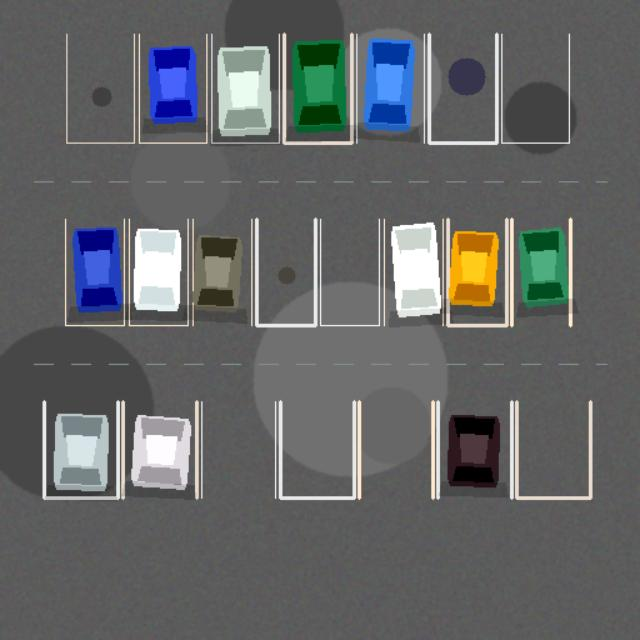space-empty: (66, 34, 134, 142), (501, 34, 569, 142), (429, 34, 496, 142), (201, 401, 275, 497), (280, 401, 354, 497), (516, 401, 590, 497), (359, 401, 432, 497), (256, 219, 315, 325), (320, 219, 379, 325)
space-occupied: (211, 34, 279, 142), (356, 34, 424, 142), (139, 34, 206, 142), (284, 34, 351, 142), (44, 401, 118, 497), (122, 401, 196, 497), (438, 401, 511, 497), (65, 219, 124, 325), (384, 219, 443, 325), (447, 219, 506, 325), (511, 219, 570, 325), (129, 219, 187, 325), (193, 219, 251, 325)
